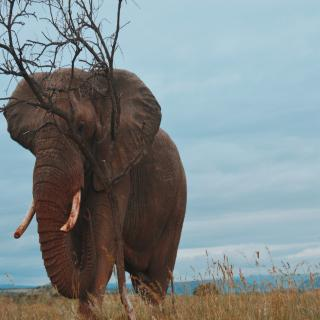Elephant: (4, 61, 189, 306)
